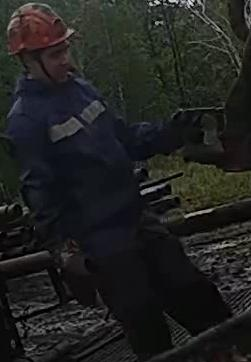gloves: (54, 244, 104, 312), (171, 106, 227, 153)
helmet: (5, 1, 75, 56)
vest: (4, 73, 142, 247)
